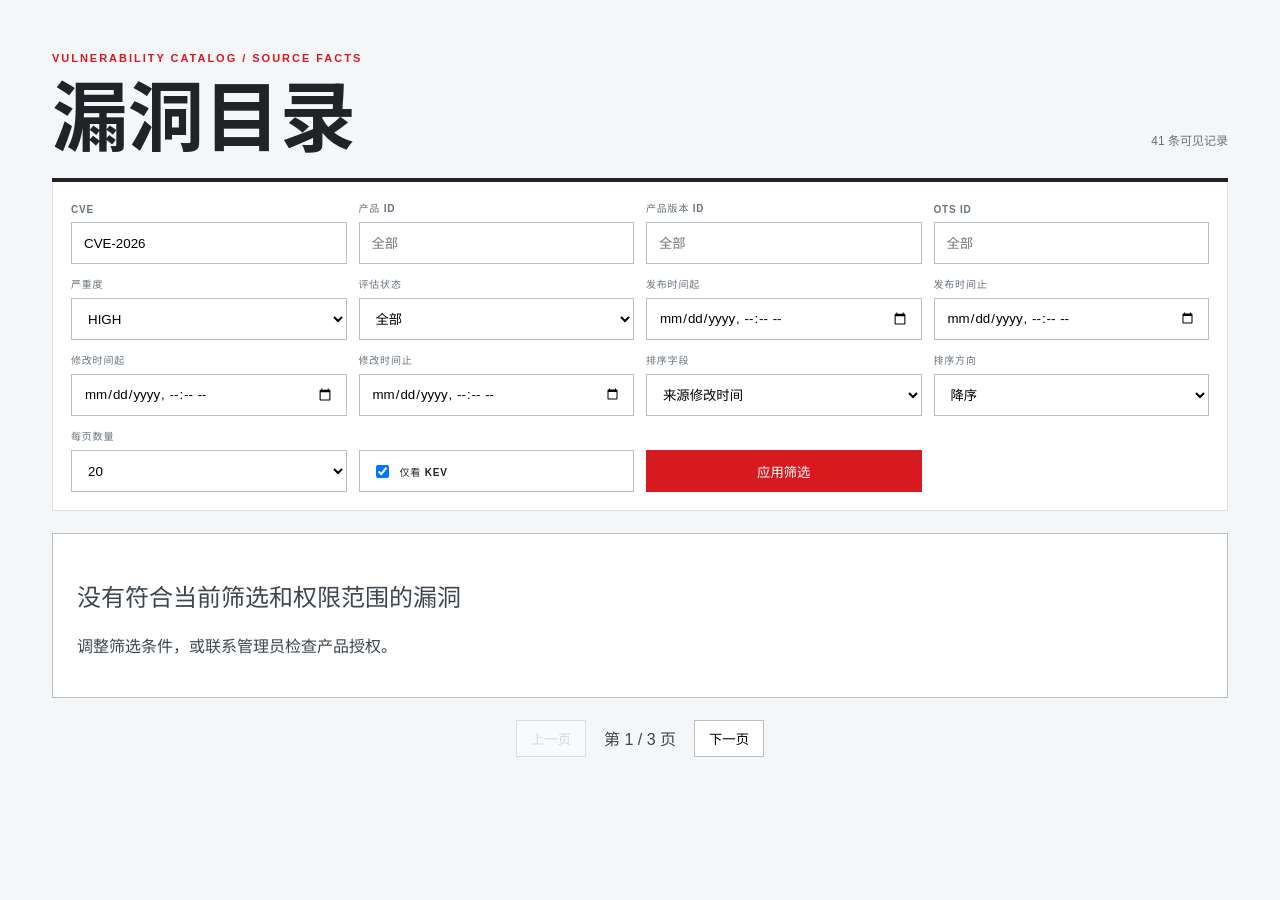
Scenario: VulnerabilityCatalogPage › distinguishes invalid filters and supports stable pagination
Click the button "下一页": (729, 738) [694, 720, 764, 757]
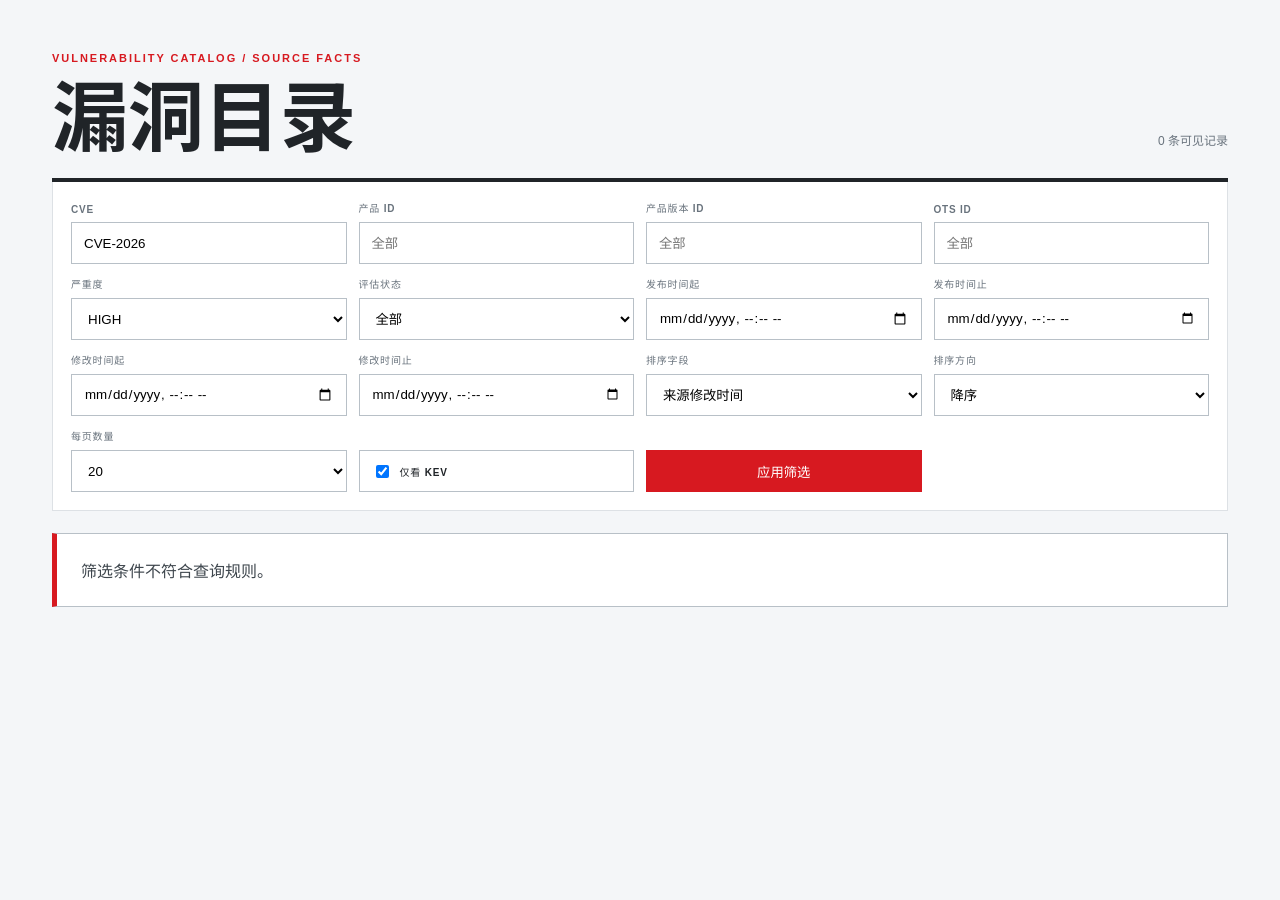
Now the message "筛选条件不符合查询规则。" is shown, box [52, 533, 1228, 607]
